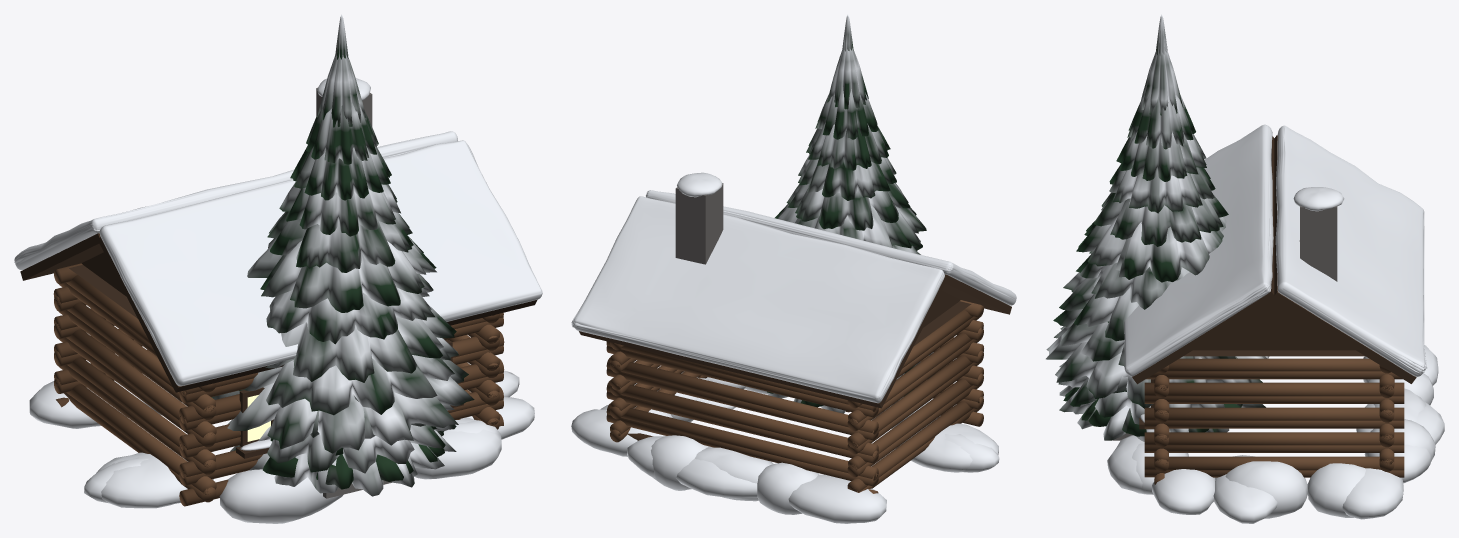
The model's file is snow_assets.glb.
3 renders of one model, left to right at view 1: azimuth 30°, elevation 25°; view 2: azimuth 150°, elevation 25°; view 3: azimuth 270°, elevation 25°, orthographic. The views are drawn at different scales.
Parts seen in each view (by area): view 1: cabin, pine_c, pine_a, pine_b, xmas_tree; view 2: cabin, pine_c; view 3: cabin, pine_c, pine_a, pine_b, xmas_tree.
Boxes of the visible parts, x1,y1,x2,y2 form: cabin: (14,78,542,523); pine_c: (211,14,474,453); pine_a: (227,395,456,473); pine_b: (230,430,456,496); xmas_tree: (234,426,444,489); cabin: (571,172,1016,523); pine_c: (775,14,933,373); cabin: (1107,124,1444,523); pine_c: (1046,14,1266,408); pine_a: (1058,321,1262,424); pine_b: (1059,385,1265,441); xmas_tree: (1063,387,1241,436).
Bounding box in the file's own units: 9.28 × 9.79 × 8.16.
